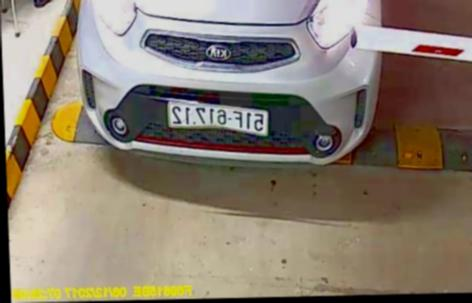License_Plate: (165, 97, 273, 138)
